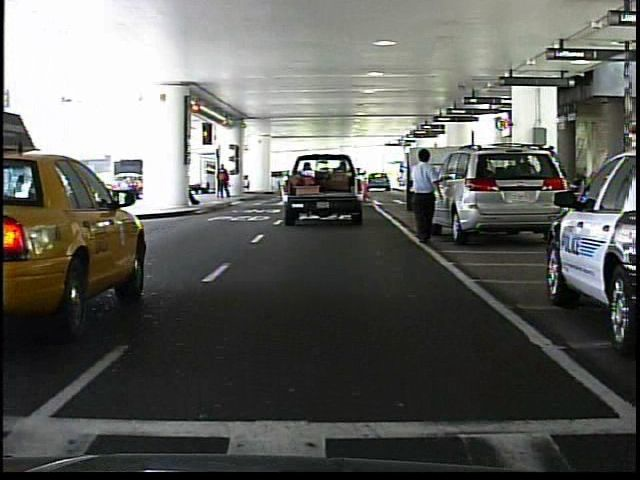person: (403, 145, 448, 244), (215, 163, 235, 202)
